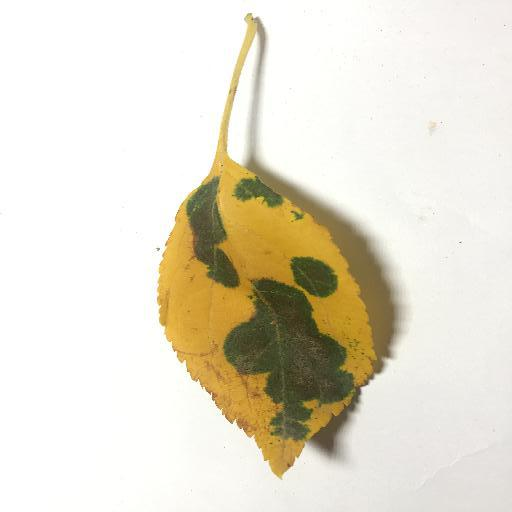Brown_Spot: (268, 310, 337, 397), (195, 210, 232, 280)
